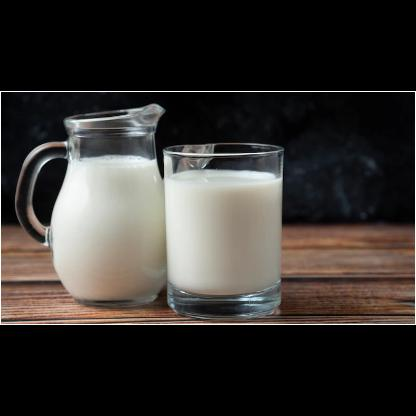milk: (51, 152, 167, 301), (164, 168, 284, 296)
